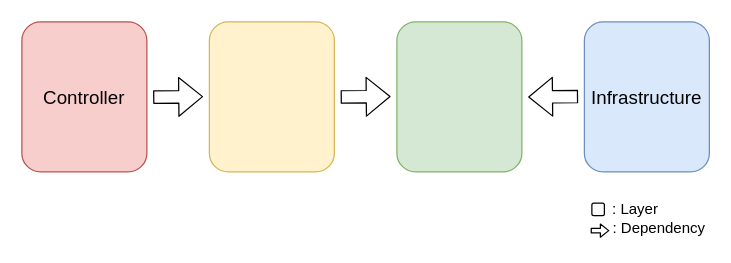
The diagram is 731 pixels wide and 263 high, and some of its shapes have lost their labels. The centre of each missing label's shape, as x and y in pixels:
Domain: pixel 459 96
UseCase: pixel 271 96
